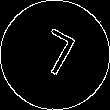L_SW: (29, 26, 81, 84)
